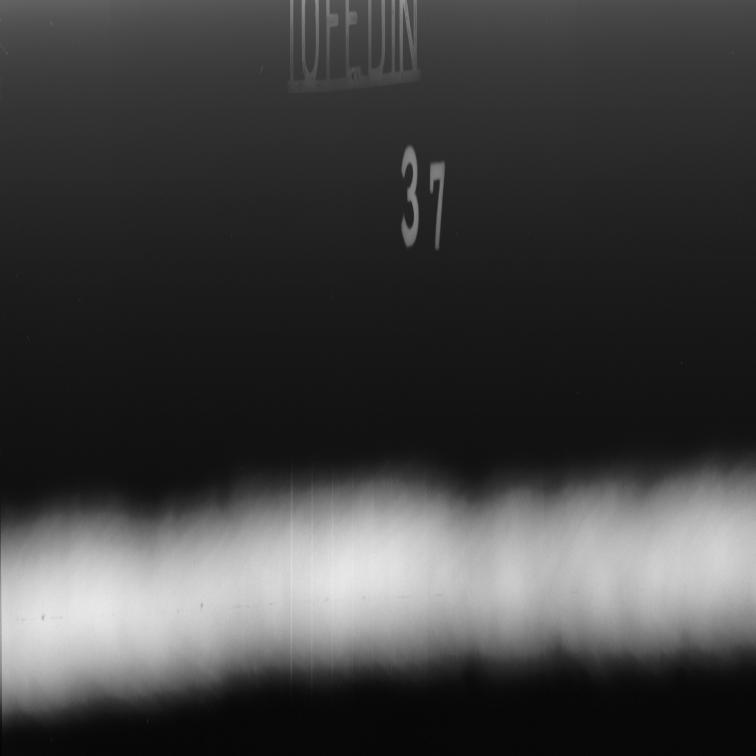FP: (3, 589, 454, 635)
